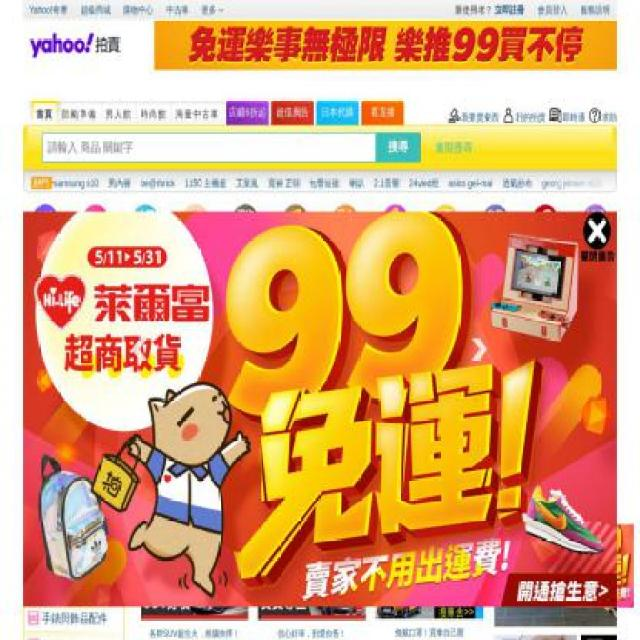button: (494, 336, 617, 587), (140, 486, 249, 540), (257, 486, 366, 540), (140, 566, 249, 620), (257, 566, 366, 620), (375, 486, 483, 540), (375, 566, 483, 620), (29, 28, 125, 62), (19, 202, 70, 258), (70, 202, 121, 258), (219, 202, 270, 258), (270, 202, 321, 258), (319, 202, 370, 258), (370, 202, 421, 258), (419, 202, 470, 258), (470, 202, 521, 258), (519, 202, 570, 258), (570, 202, 621, 258), (120, 202, 169, 258), (171, 202, 220, 258), (27, 466, 124, 494), (27, 576, 124, 604), (27, 494, 124, 521), (27, 522, 124, 549), (27, 549, 124, 576), (27, 604, 124, 631), (578, 211, 616, 267), (172, 100, 222, 126), (59, 100, 103, 126), (224, 100, 267, 126), (314, 100, 357, 126), (270, 100, 312, 126), (360, 100, 402, 126), (102, 100, 138, 126), (444, 107, 499, 124), (138, 100, 173, 126), (499, 107, 546, 124), (571, 314, 609, 334), (435, 138, 473, 156), (546, 107, 586, 124), (32, 100, 58, 126), (28, 632, 124, 639), (585, 107, 617, 124), (131, 336, 151, 362), (468, 336, 488, 362), (94, 443, 115, 462), (494, 635, 581, 639), (202, 4, 224, 16), (580, 635, 640, 639), (438, 423, 448, 435), (448, 423, 458, 435), (417, 423, 426, 435), (396, 423, 404, 435), (407, 423, 415, 435), (460, 423, 468, 435), (429, 423, 436, 435), (471, 423, 478, 435)
field: (41, 132, 377, 162), (376, 132, 421, 162)
